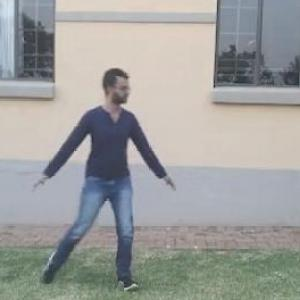land: (35, 75, 174, 258)
